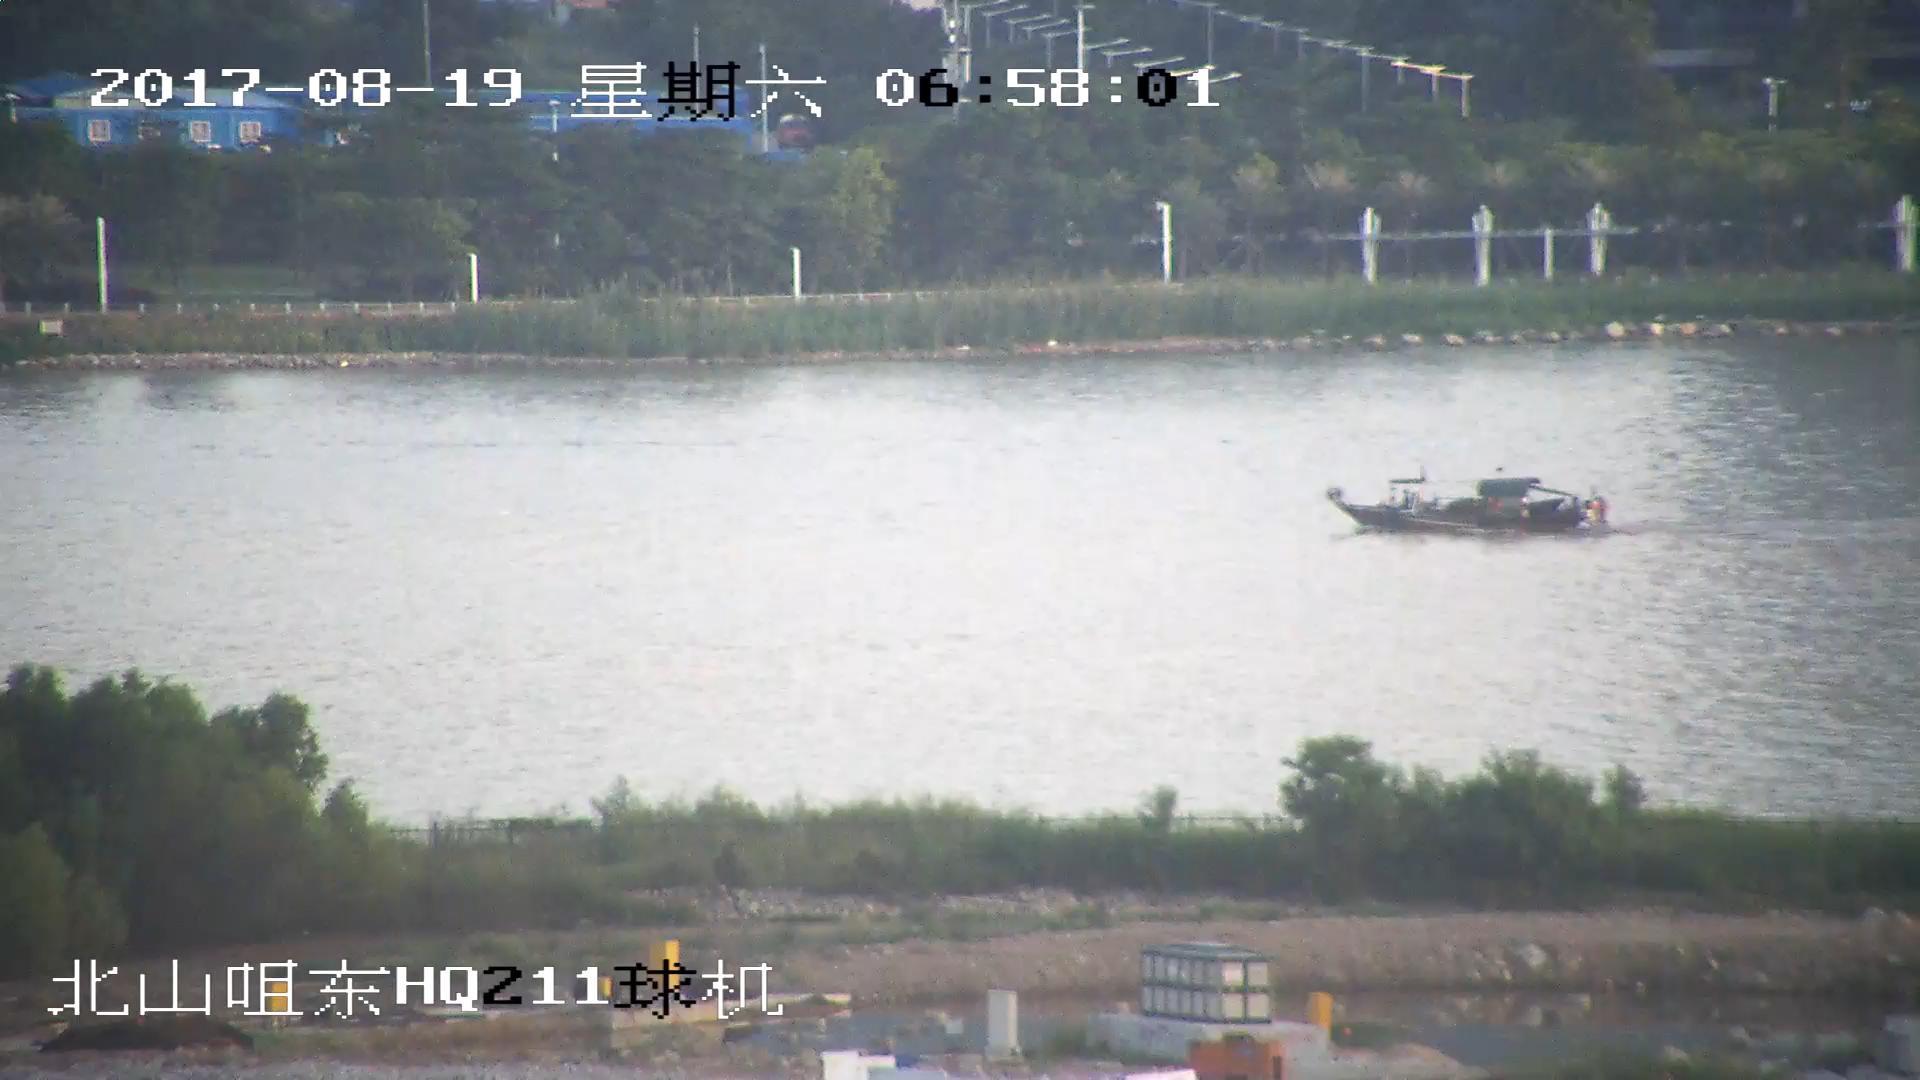fishing boat: (1323, 476, 1605, 538)
